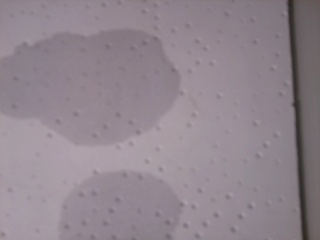Water_detected: (19, 41, 151, 130), (76, 175, 158, 240)
